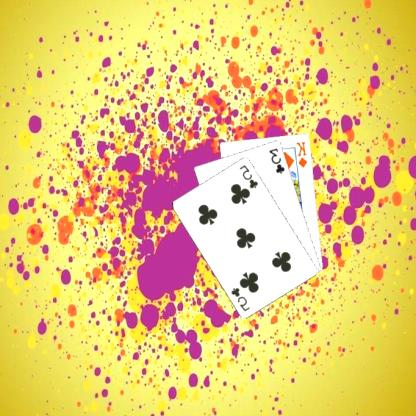3C: (268, 145, 288, 175)
5C: (230, 284, 253, 312), (239, 162, 261, 190)
KD: (296, 139, 310, 169)
